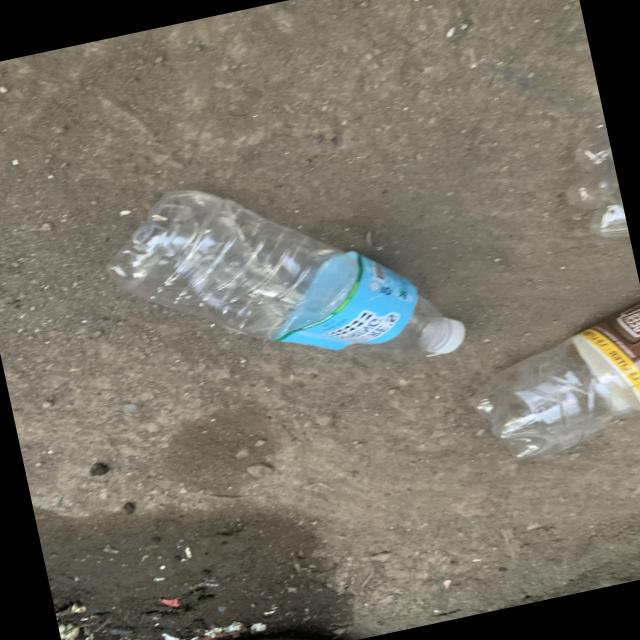Bottle: (108, 190, 465, 353)
